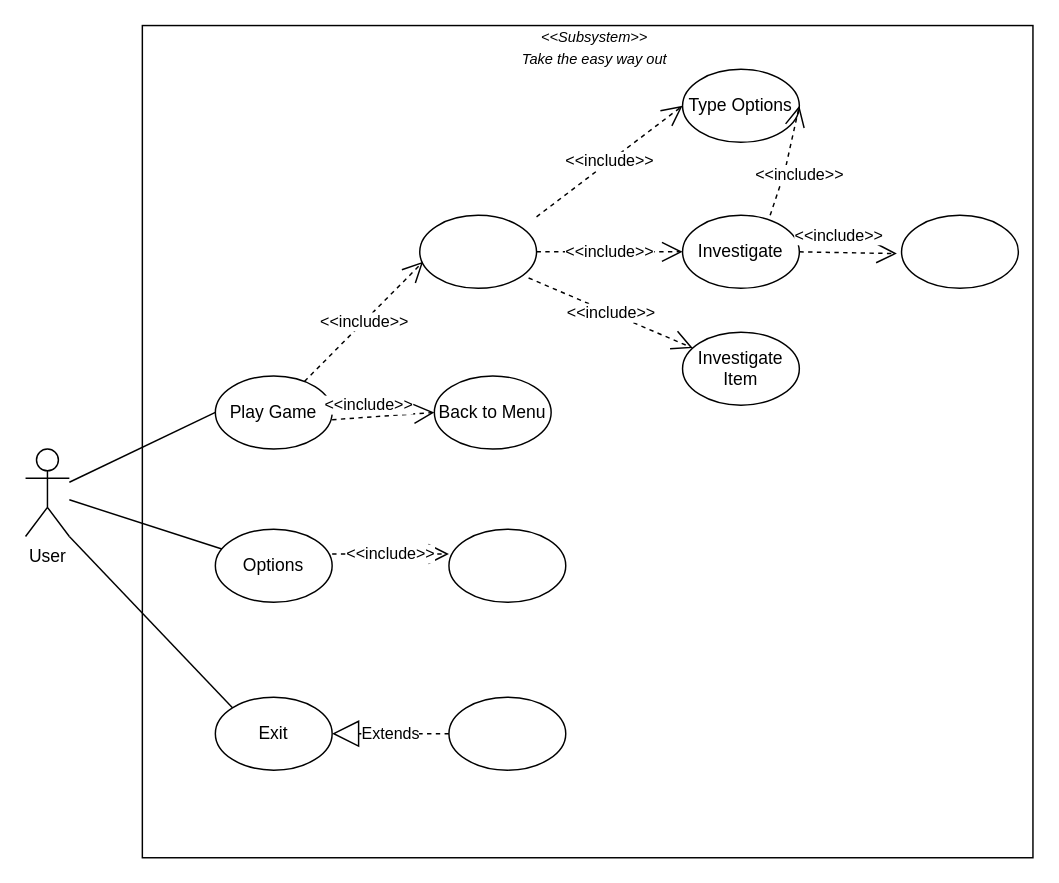
The diagram is 1059 pixels wide and 883 high, and some of its shapes have lost their labels. Each missing label, with the centre of its shape:
Executions: the point at 477,251
Pick up: the point at 959,251
Raytracing Off/On: the point at 506,565
Stop Process: the point at 506,733
